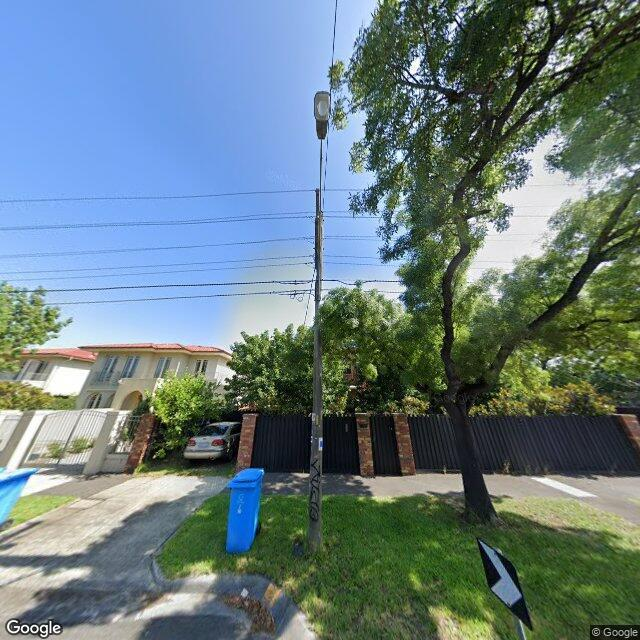streetlight: (313, 90, 332, 302)
timber-pole: (307, 216, 325, 551)
